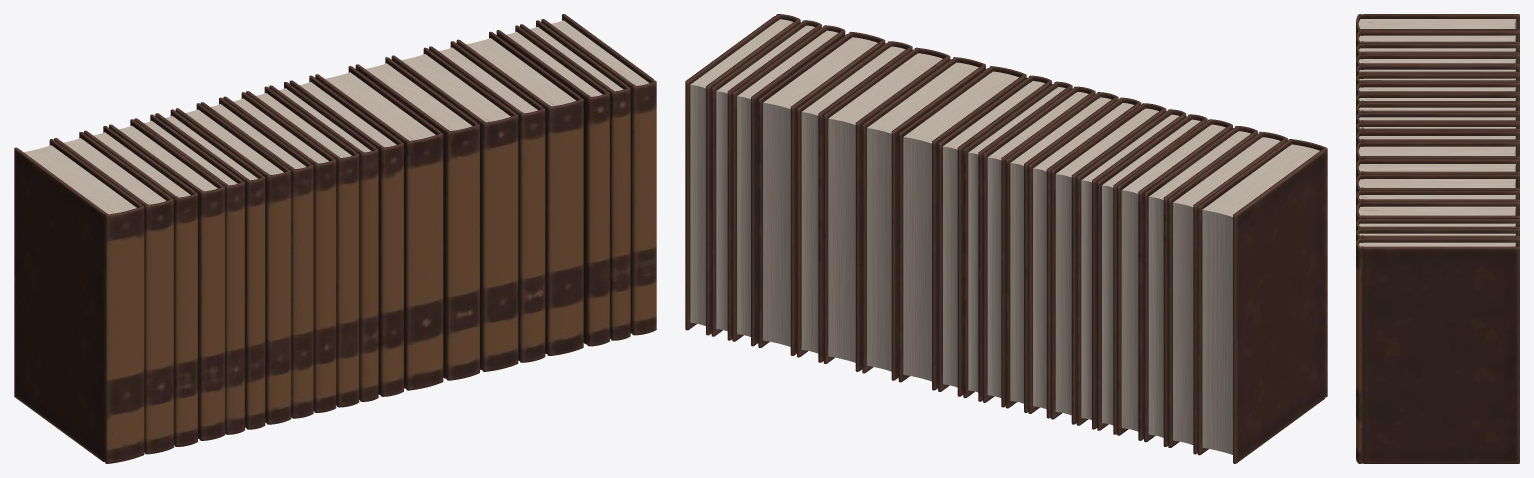
The picture shows the model from 3 angles, left to right: view 1: azimuth 30°, elevation 25°; view 2: azimuth 150°, elevation 25°; view 3: azimuth 270°, elevation 25°; orthographic projection. The views are drawn at different scales.
Visible parts, largest first — view 1: book_encyclopedia_set_01_book01, book_encyclopedia_set_01_book13, book_encyclopedia_set_01_book15, book_encyclopedia_set_01_book17, book_encyclopedia_set_01_book14, book_encyclopedia_set_01_book02, book_encyclopedia_set_01_book16, book_encyclopedia_set_01_book04, book_encyclopedia_set_01_book18, book_encyclopedia_set_01_book20, book_encyclopedia_set_01_book07, book_encyclopedia_set_01_book12 (+8 smaller); view 2: book_encyclopedia_set_01_book01, book_encyclopedia_set_01_book13, book_encyclopedia_set_01_book15, book_encyclopedia_set_01_book17, book_encyclopedia_set_01_book14, book_encyclopedia_set_01_book02, book_encyclopedia_set_01_book04, book_encyclopedia_set_01_book16, book_encyclopedia_set_01_book18, book_encyclopedia_set_01_book20, book_encyclopedia_set_01_book07, book_encyclopedia_set_01_book12 (+8 smaller); view 3: book_encyclopedia_set_01_book20, book_encyclopedia_set_01_book13, book_encyclopedia_set_01_book01, book_encyclopedia_set_01_book17, book_encyclopedia_set_01_book15, book_encyclopedia_set_01_book14, book_encyclopedia_set_01_book02, book_encyclopedia_set_01_book16, book_encyclopedia_set_01_book03, book_encyclopedia_set_01_book12, book_encyclopedia_set_01_book07, book_encyclopedia_set_01_book04 (+8 smaller).
Part boxes in pixels (bbox=[...]): book_encyclopedia_set_01_book01: bbox=[14, 139, 144, 463]; book_encyclopedia_set_01_book13: bbox=[315, 66, 443, 390]; book_encyclopedia_set_01_book15: bbox=[391, 47, 518, 371]; book_encyclopedia_set_01_book17: bbox=[456, 31, 583, 355]; book_encyclopedia_set_01_book14: bbox=[355, 57, 479, 380]; book_encyclopedia_set_01_book02: bbox=[54, 132, 173, 454]; book_encyclopedia_set_01_book16: bbox=[429, 41, 545, 362]; book_encyclopedia_set_01_book04: bbox=[109, 119, 224, 440]; book_encyclopedia_set_01_book18: bbox=[496, 25, 609, 346]; book_encyclopedia_set_01_book20: bbox=[541, 14, 656, 335]; book_encyclopedia_set_01_book07: bbox=[175, 103, 291, 424]; book_encyclopedia_set_01_book12: bbox=[289, 75, 403, 396]; book_encyclopedia_set_01_book01: bbox=[1197, 139, 1327, 463]; book_encyclopedia_set_01_book13: bbox=[898, 66, 1026, 390]; book_encyclopedia_set_01_book15: bbox=[823, 47, 950, 371]; book_encyclopedia_set_01_book17: bbox=[758, 32, 885, 355]; book_encyclopedia_set_01_book14: bbox=[862, 57, 985, 380]; book_encyclopedia_set_01_book02: bbox=[1168, 131, 1287, 454]; book_encyclopedia_set_01_book04: bbox=[1117, 119, 1232, 440]; book_encyclopedia_set_01_book16: bbox=[797, 41, 912, 362]; book_encyclopedia_set_01_book18: bbox=[732, 25, 845, 346]; book_encyclopedia_set_01_book20: bbox=[685, 14, 800, 335]; book_encyclopedia_set_01_book07: bbox=[1051, 103, 1166, 424]; book_encyclopedia_set_01_book12: bbox=[938, 75, 1051, 396]; book_encyclopedia_set_01_book20: bbox=[1356, 238, 1519, 463]; book_encyclopedia_set_01_book13: bbox=[1356, 142, 1519, 164]; book_encyclopedia_set_01_book01: bbox=[1356, 14, 1519, 35]; book_encyclopedia_set_01_book17: bbox=[1356, 202, 1519, 222]; book_encyclopedia_set_01_book15: bbox=[1356, 174, 1519, 194]; book_encyclopedia_set_01_book14: bbox=[1356, 159, 1519, 180]; book_encyclopedia_set_01_book02: bbox=[1356, 30, 1519, 47]; book_encyclopedia_set_01_book16: bbox=[1356, 190, 1519, 208]; book_encyclopedia_set_01_book03: bbox=[1356, 43, 1519, 58]; book_encyclopedia_set_01_book12: bbox=[1356, 131, 1519, 148]; book_encyclopedia_set_01_book07: bbox=[1356, 82, 1519, 96]; book_encyclopedia_set_01_book04: bbox=[1356, 54, 1519, 68].
Size of the model in its own units: 0.5513 by 0.2374 by 0.1631.
Materials: 2 (2 with a texture image).
